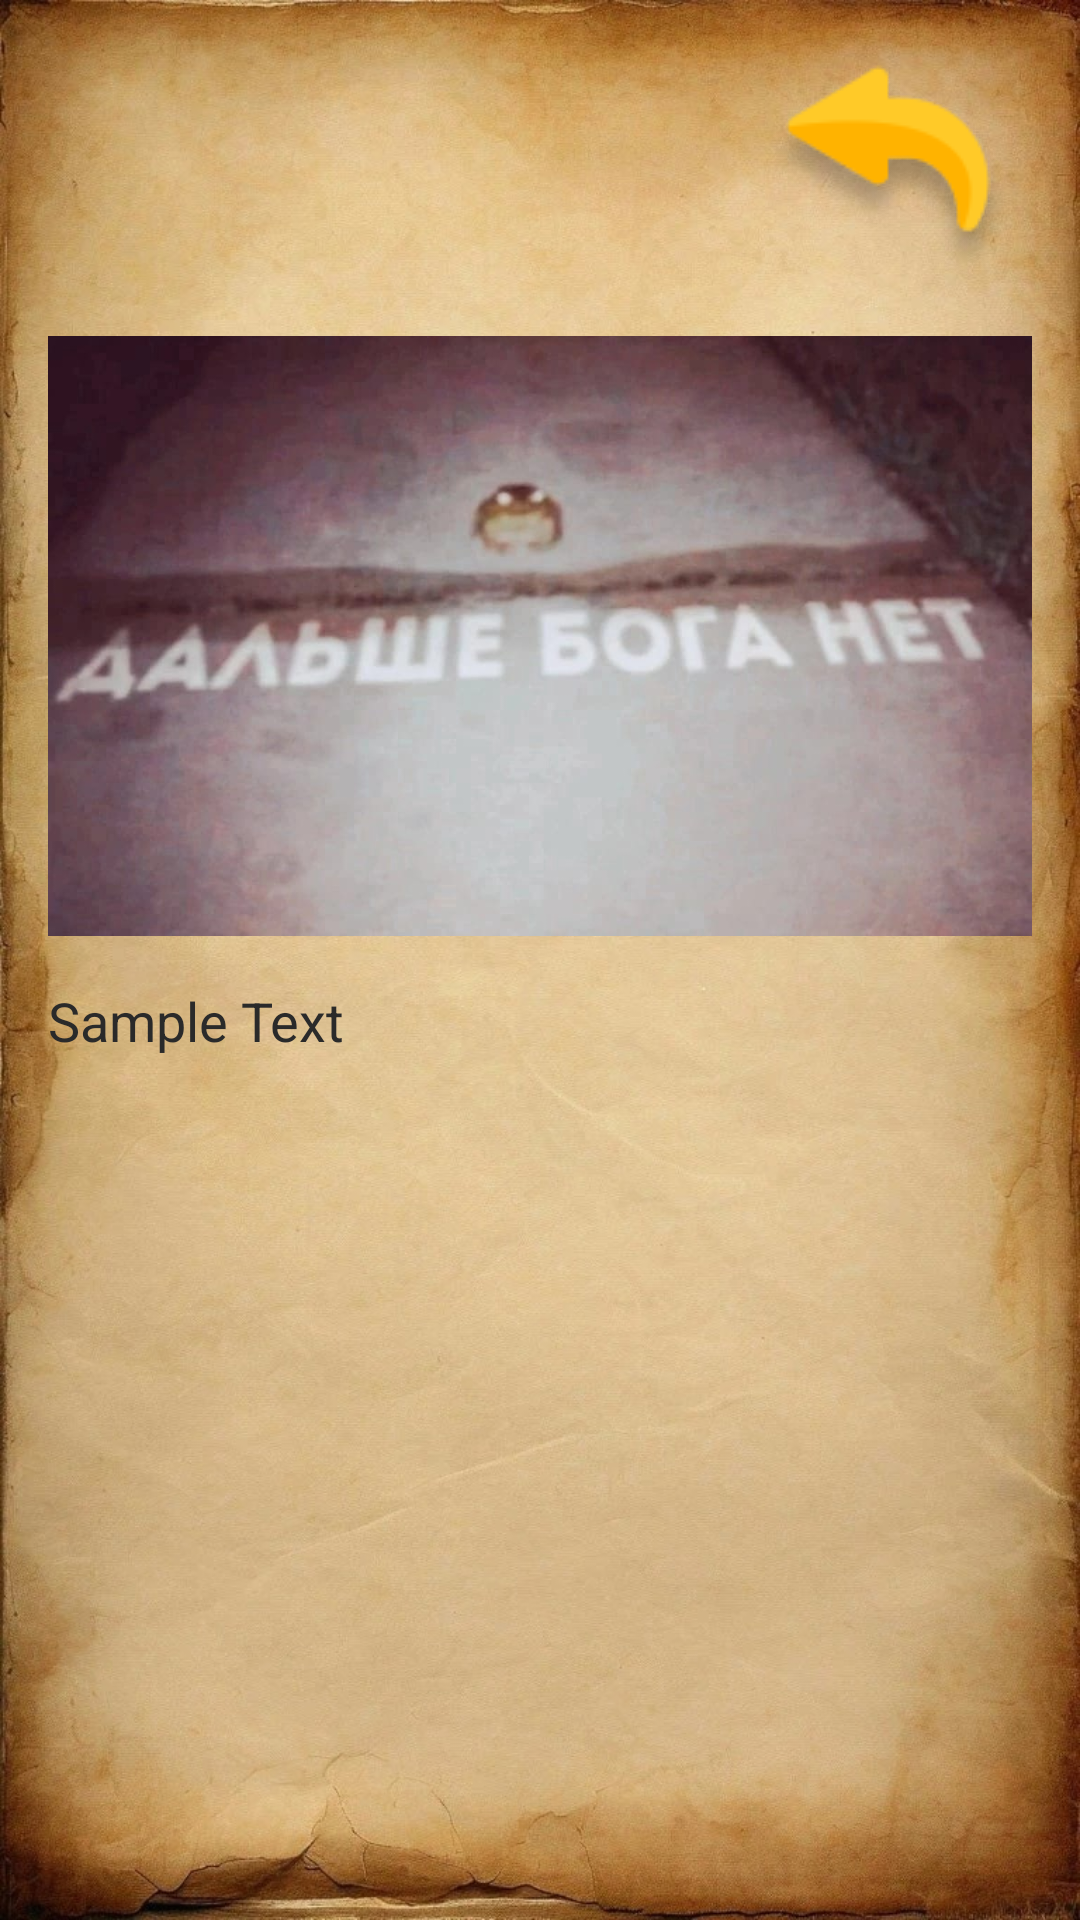

Screen size 1080w x 1920h. Icon name, then its center in pixels as point (x, y):
back: point (888, 192)
